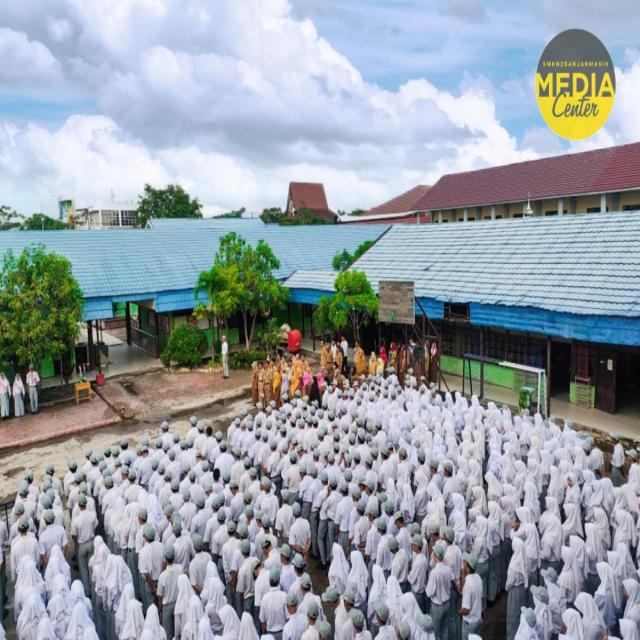peserta: (426, 546, 454, 640), (457, 548, 484, 640), (485, 498, 504, 608), (470, 512, 491, 604), (23, 559, 46, 640), (498, 478, 516, 581), (527, 575, 555, 638), (407, 532, 427, 618), (332, 478, 355, 552), (140, 516, 162, 592), (509, 536, 526, 634), (591, 554, 616, 619), (556, 537, 581, 602), (538, 560, 566, 617), (572, 587, 602, 640), (324, 578, 348, 640), (387, 535, 410, 598), (521, 516, 541, 588), (609, 502, 636, 555), (160, 538, 177, 620), (538, 505, 560, 568), (239, 537, 259, 605), (522, 474, 542, 541), (264, 566, 282, 640), (347, 548, 367, 614), (24, 359, 44, 424), (75, 496, 93, 567), (43, 508, 64, 568), (16, 516, 35, 582), (442, 518, 462, 580), (569, 531, 592, 583), (374, 515, 392, 581), (440, 405, 466, 447), (588, 473, 611, 519), (175, 570, 192, 632), (584, 515, 602, 573), (424, 478, 442, 536), (384, 575, 405, 624), (556, 602, 583, 640), (603, 537, 628, 578), (224, 520, 240, 584), (174, 520, 194, 571), (561, 497, 583, 543), (608, 428, 626, 484), (619, 568, 639, 618), (49, 546, 69, 596), (203, 558, 219, 620), (586, 430, 608, 475), (284, 592, 304, 640), (624, 440, 640, 499), (310, 463, 322, 541), (396, 444, 416, 489), (190, 469, 210, 514), (185, 590, 203, 640), (291, 552, 306, 611), (394, 507, 411, 559), (128, 502, 141, 570), (217, 598, 238, 640), (253, 558, 269, 613), (330, 537, 345, 595), (327, 473, 339, 545), (414, 465, 429, 522), (515, 603, 538, 640), (256, 474, 272, 526), (320, 472, 331, 547), (73, 606, 97, 640), (213, 505, 228, 559), (354, 498, 367, 560), (366, 502, 378, 569), (375, 445, 392, 491), (370, 560, 382, 625), (545, 457, 559, 512), (137, 504, 148, 574), (221, 329, 235, 383), (210, 575, 225, 625), (112, 497, 124, 559), (122, 577, 134, 639), (400, 473, 414, 526), (194, 539, 207, 596), (195, 498, 211, 544), (277, 489, 291, 541), (447, 485, 467, 521), (444, 457, 459, 505), (293, 437, 313, 473), (69, 582, 89, 618), (288, 499, 301, 554), (18, 553, 29, 618), (278, 438, 290, 497), (13, 368, 24, 432), (208, 500, 219, 564), (612, 612, 637, 640), (580, 461, 594, 511), (556, 416, 573, 457), (351, 449, 368, 490), (469, 451, 484, 497), (364, 475, 379, 521), (237, 456, 252, 502), (78, 479, 93, 525), (413, 440, 427, 489), (376, 602, 394, 640), (340, 590, 354, 638), (96, 457, 108, 512), (216, 437, 230, 484), (98, 539, 111, 589), (109, 554, 120, 613), (298, 463, 310, 517), (469, 479, 486, 517), (183, 488, 198, 531), (54, 578, 70, 618), (565, 466, 580, 508), (350, 605, 368, 640), (302, 412, 317, 453), (339, 419, 355, 457), (386, 472, 400, 515), (446, 431, 460, 474), (0, 367, 10, 427), (610, 479, 630, 509), (161, 468, 173, 518), (136, 450, 152, 487), (159, 441, 174, 480), (260, 429, 271, 482), (429, 340, 439, 398), (484, 466, 500, 502), (329, 436, 345, 472), (103, 467, 115, 514), (245, 421, 256, 472), (326, 450, 342, 485), (314, 423, 330, 458), (456, 449, 469, 492), (192, 419, 205, 462), (304, 597, 317, 640), (424, 522, 443, 551), (249, 354, 259, 409), (135, 598, 148, 640), (261, 355, 271, 408), (269, 438, 279, 491), (170, 481, 181, 529), (122, 502, 130, 568), (365, 427, 379, 464), (270, 366, 282, 409), (147, 454, 159, 497), (167, 502, 176, 559), (499, 452, 515, 484), (354, 427, 369, 461), (299, 366, 312, 405), (240, 612, 258, 640), (524, 431, 544, 456), (288, 453, 298, 503), (427, 454, 442, 487), (184, 414, 197, 452), (202, 425, 214, 466), (227, 408, 238, 452), (308, 603, 321, 640), (278, 367, 290, 407), (245, 470, 257, 510), (220, 466, 230, 514), (283, 541, 293, 589), (183, 489, 194, 532), (403, 591, 417, 624), (89, 452, 100, 494), (482, 407, 495, 442), (179, 462, 192, 497), (167, 449, 180, 484), (244, 501, 255, 542), (400, 408, 414, 440), (22, 486, 36, 518), (147, 603, 159, 640), (239, 483, 248, 532), (209, 426, 220, 466), (450, 403, 464, 434), (256, 357, 265, 405), (309, 370, 320, 409), (528, 451, 541, 484), (386, 416, 399, 449), (253, 430, 262, 477), (333, 341, 343, 383), (514, 456, 526, 491), (301, 571, 313, 606), (231, 447, 241, 488), (453, 388, 470, 412), (286, 409, 298, 443), (192, 448, 204, 482), (544, 433, 558, 462), (486, 448, 500, 477), (362, 454, 376, 483), (363, 400, 378, 427), (318, 338, 328, 378), (20, 465, 36, 490), (72, 467, 82, 507), (232, 413, 241, 457), (342, 443, 354, 476), (353, 394, 365, 427), (521, 398, 532, 433), (239, 418, 247, 466), (181, 437, 193, 469), (161, 500, 169, 548), (260, 515, 270, 553), (486, 424, 500, 451), (330, 419, 344, 446), (473, 427, 484, 461), (513, 408, 523, 445), (345, 385, 356, 418), (335, 388, 346, 421), (350, 337, 360, 373), (468, 392, 483, 416), (287, 434, 299, 464), (532, 409, 545, 436), (94, 530, 103, 569), (279, 424, 289, 459), (201, 459, 211, 494), (460, 428, 472, 457), (503, 438, 516, 464), (254, 505, 262, 547), (210, 463, 219, 500), (231, 480, 240, 517), (156, 460, 163, 507), (309, 443, 322, 468), (264, 416, 276, 443), (408, 378, 420, 405), (41, 462, 58, 481), (340, 330, 350, 362), (431, 430, 441, 462), (325, 383, 335, 415), (127, 469, 136, 504), (432, 416, 445, 440), (288, 372, 298, 403), (14, 497, 24, 528), (115, 434, 130, 454), (378, 407, 389, 434), (399, 344, 407, 381), (463, 409, 473, 438), (152, 438, 164, 462), (148, 492, 157, 524), (65, 454, 78, 476), (92, 535, 99, 575), (383, 499, 394, 524), (388, 338, 396, 372), (314, 363, 324, 390), (493, 406, 503, 433), (417, 417, 427, 444), (159, 419, 173, 438), (252, 414, 264, 436), (171, 431, 182, 455), (43, 481, 54, 505), (503, 417, 512, 446), (347, 429, 357, 455), (305, 402, 318, 422), (296, 412, 304, 444), (300, 351, 311, 374), (475, 415, 484, 442), (138, 486, 147, 513), (317, 408, 328, 430), (510, 428, 522, 448), (278, 408, 288, 432), (368, 352, 376, 380), (344, 466, 355, 486), (266, 404, 276, 426), (407, 398, 417, 420), (102, 444, 114, 462), (487, 398, 498, 417), (377, 355, 386, 378), (374, 381, 382, 406), (428, 398, 438, 418), (389, 389, 397, 413), (290, 348, 298, 371), (381, 384, 388, 410), (81, 448, 93, 463), (361, 382, 368, 405), (397, 392, 405, 412), (139, 436, 149, 452), (407, 368, 416, 385), (419, 385, 427, 404), (421, 402, 428, 420), (241, 406, 248, 421), (420, 373, 427, 388), (99, 573, 105, 576)
